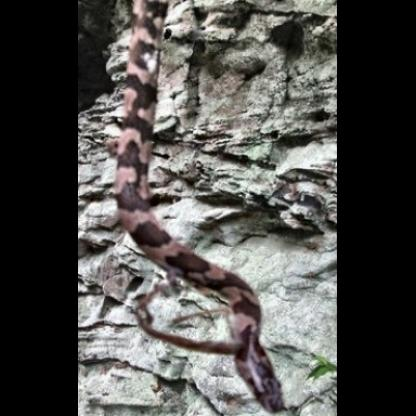Snake: (107, 12, 291, 406), (102, 0, 168, 166)
